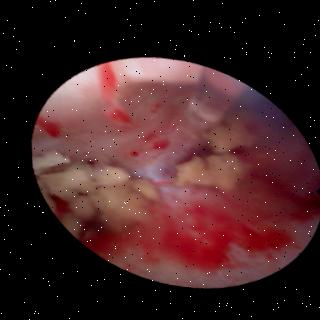stone: (34, 163, 155, 232), (172, 149, 249, 186), (200, 109, 252, 149), (32, 150, 66, 166)
tissue: (81, 94, 315, 280), (34, 56, 196, 173)
